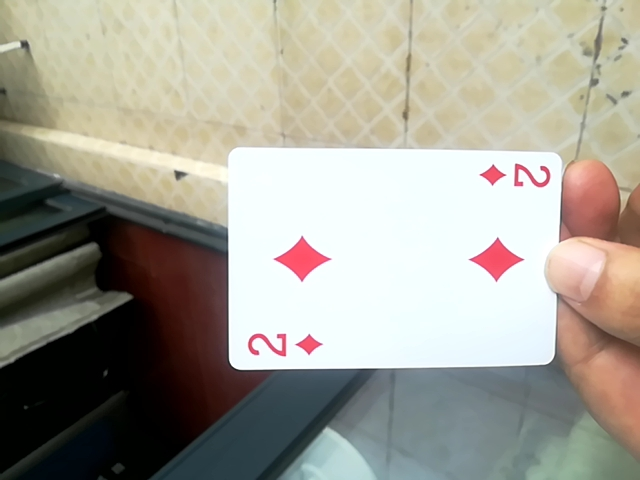fk 2: (222, 145, 564, 372)
